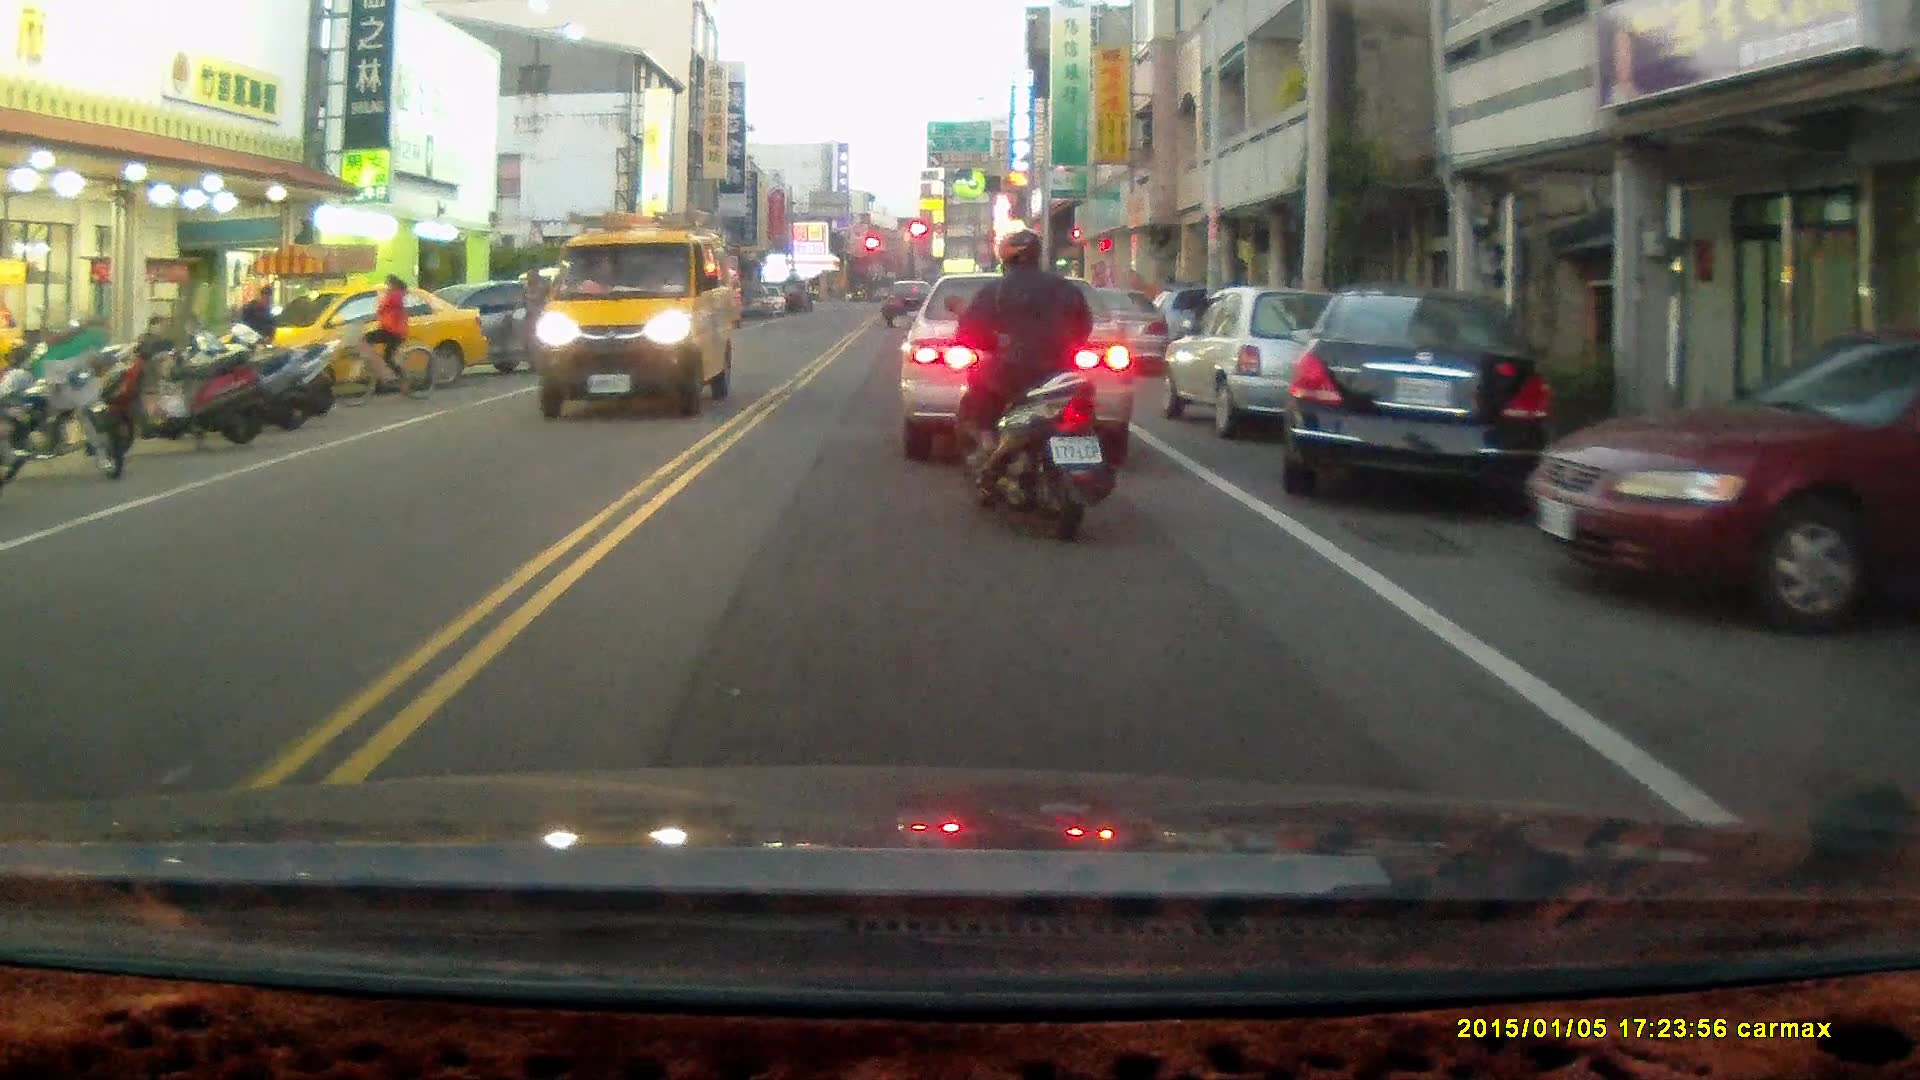pedestrian: (513, 265, 552, 372), (237, 284, 280, 381)
rider: (944, 229, 1112, 546), (332, 274, 436, 408)
vehicle: (1523, 328, 1920, 643), (1291, 284, 1559, 517), (906, 269, 1147, 458), (534, 213, 739, 419), (1155, 285, 1383, 442), (259, 288, 490, 396)
